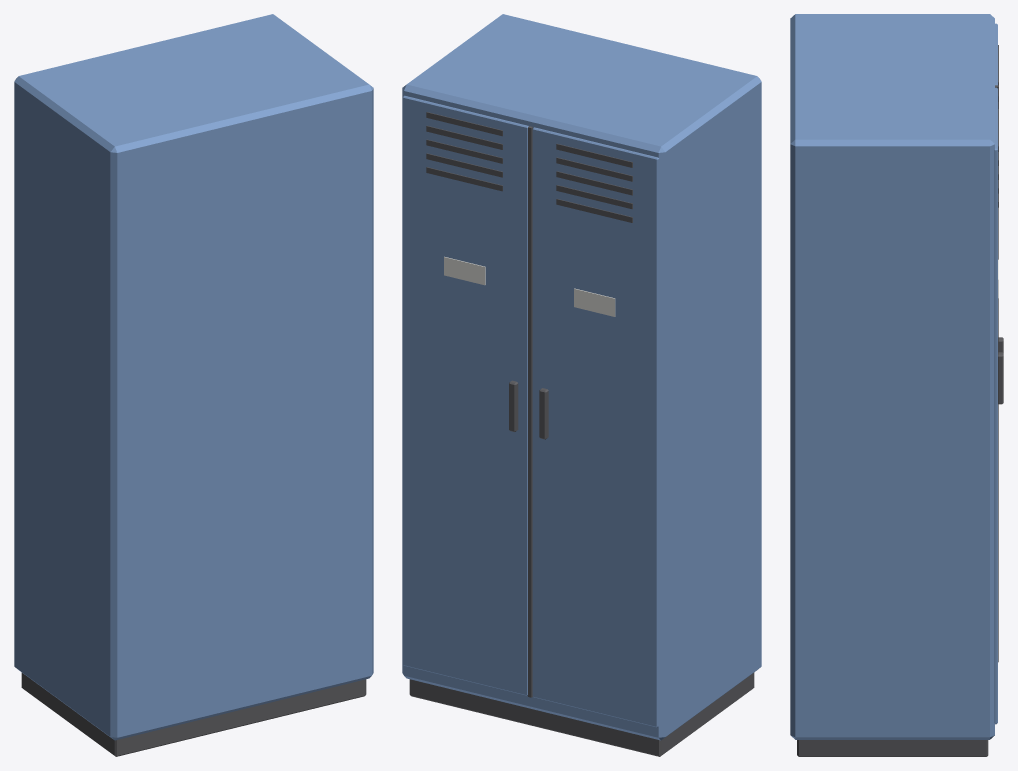
File: v_bp_locker_blue.glb
3 views of the same model, side by side, from view 1: azimuth 30°, elevation 25°; view 2: azimuth 150°, elevation 25°; view 3: azimuth 270°, elevation 25° (orthographic).
Visible parts, largest first — view 1: Locker; view 2: Locker; view 3: Locker.
Boxes of the visible parts, bbox=[...] form: Locker: bbox=[14, 14, 373, 756]; Locker: bbox=[402, 14, 761, 756]; Locker: bbox=[790, 14, 1003, 756].
Size of the model in its own units: 0.9 by 2 by 0.625.
